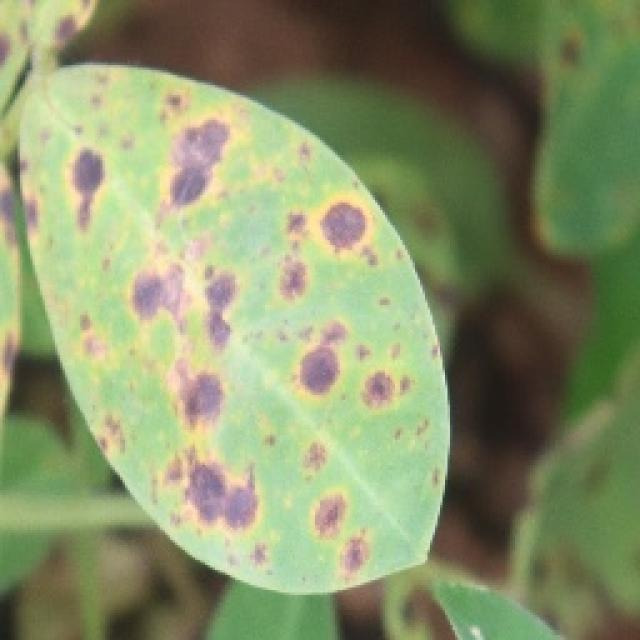Yellowish: (0, 16, 466, 592)
